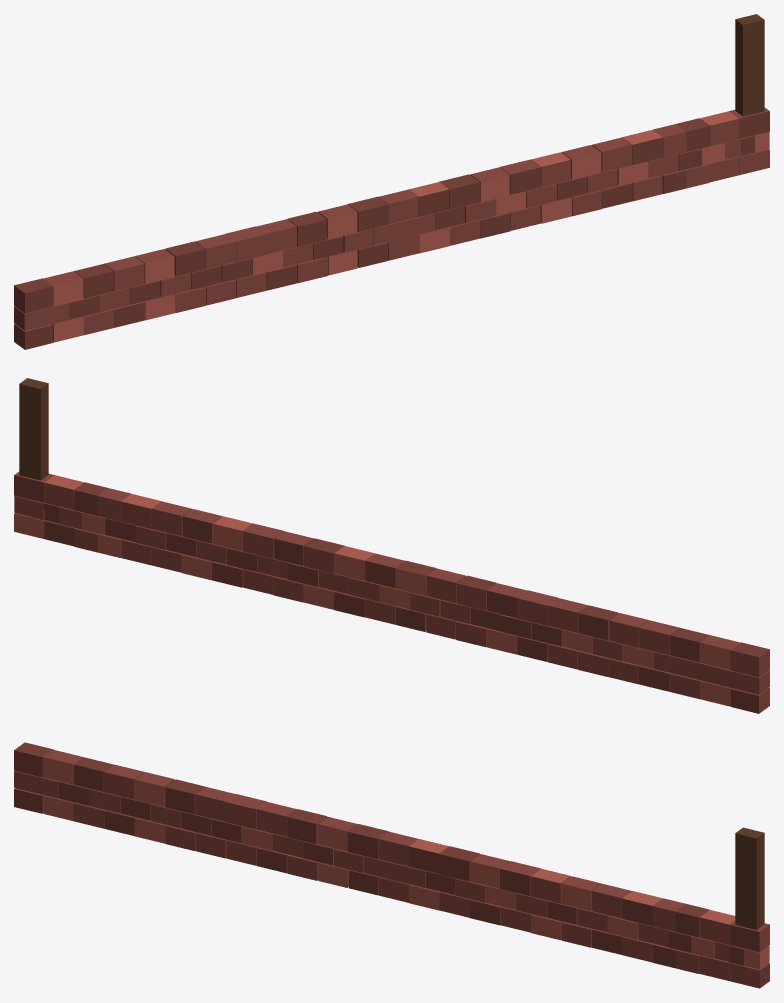
Rendered from Muro_2_LV_3.fbx.
3 views of the same model, one above another, from view 1: azimuth 30°, elevation 25°; view 2: azimuth 150°, elevation 25°; view 3: azimuth 330°, elevation 25° (orthographic).
Parts seen in each view (by area): view 1: Wall.009; view 2: Wall.009; view 3: Wall.009.
Part boxes in pixels (left/top/right/bottom): Wall.009: left=14, top=14, right=769, bottom=349; Wall.009: left=14, top=378, right=769, bottom=713; Wall.009: left=14, top=742, right=769, bottom=988.
Bounding box in the file's own units: 1223 × 232 × 31.11.
